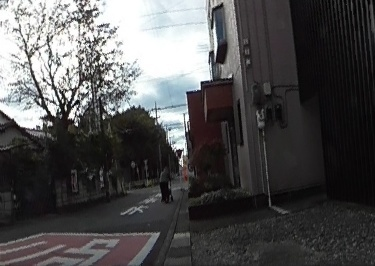person: (157, 166, 173, 203)
